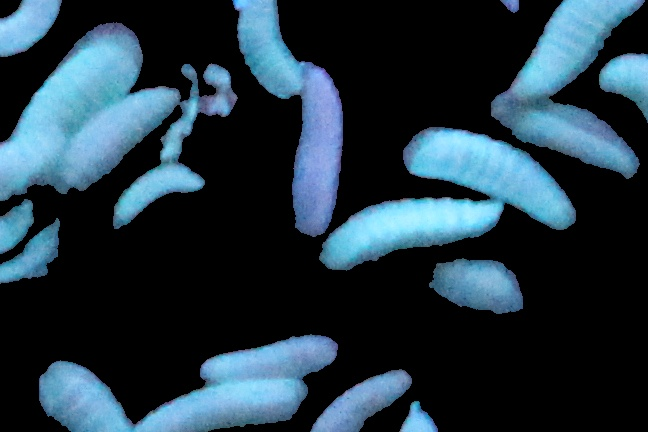larvae: (405, 120, 575, 231), (45, 82, 190, 202), (16, 25, 142, 143), (320, 197, 505, 272), (511, 1, 646, 99), (497, 98, 637, 176), (289, 58, 343, 235), (136, 378, 309, 431), (198, 326, 343, 381), (31, 362, 133, 430), (304, 370, 411, 432), (423, 260, 530, 320), (234, 2, 298, 97), (112, 164, 203, 227), (1, 1, 62, 73)
